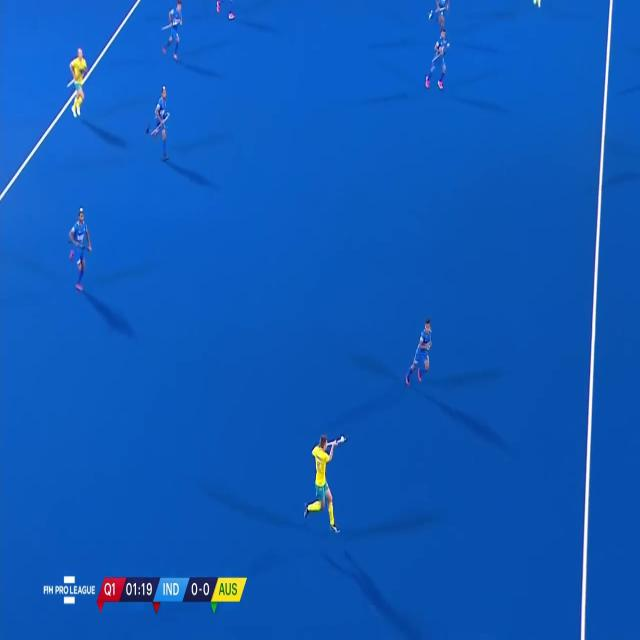ball: (337, 433, 348, 448)
